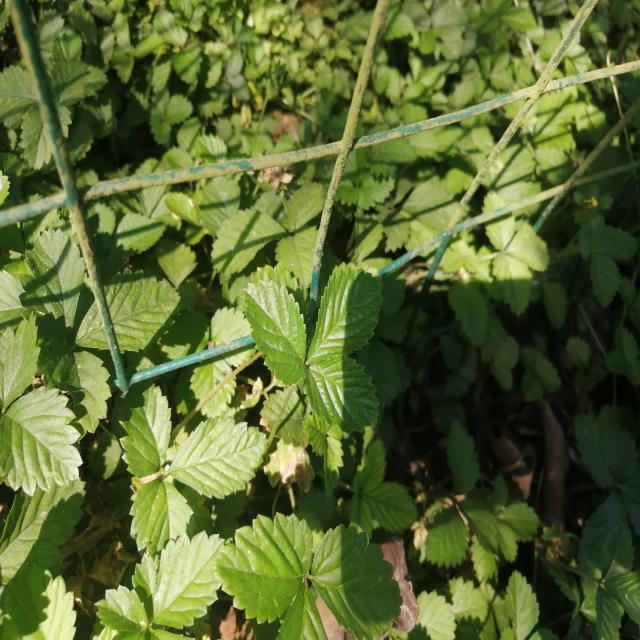Mock_strawberry: (224, 258, 400, 435)
